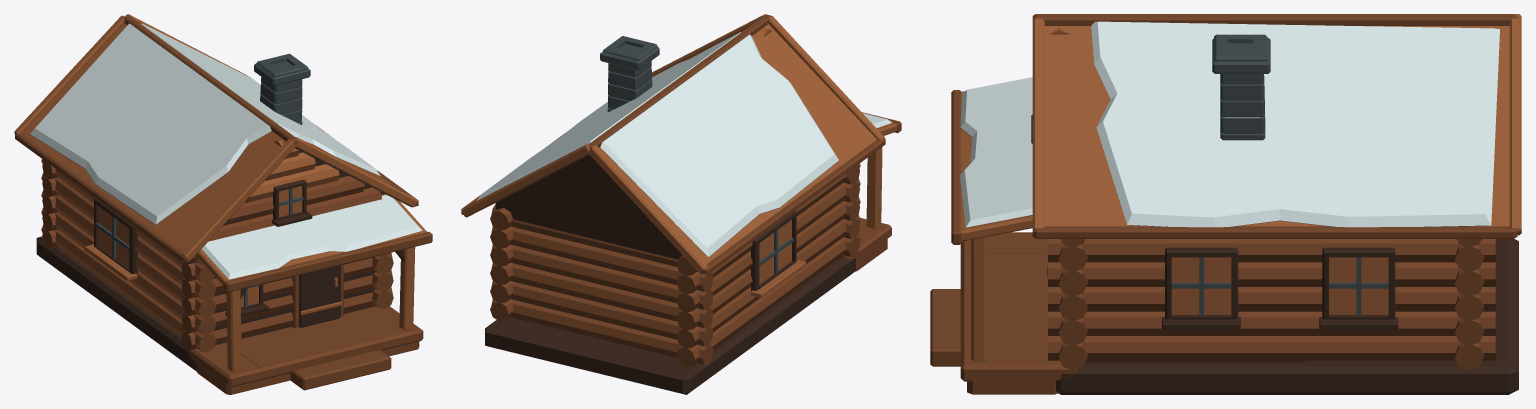
The model's file is Prop_House.fbx.
3 views of the same model, side by side, from view 1: azimuth 30°, elevation 25°; view 2: azimuth 150°, elevation 25°; view 3: azimuth 270°, elevation 25° (orthographic). The views are drawn at different scales.
Visible parts, largest first — view 1: PropHouse_LOD0; view 2: PropHouse_LOD0; view 3: PropHouse_LOD0.
Boxes of the visible parts, <box> form: PropHouse_LOD0: <box>14,14,432,394</box>; PropHouse_LOD0: <box>461,14,901,394</box>; PropHouse_LOD0: <box>930,14,1521,394</box>.
Bounding box in the file's own units: 5.85 × 5.37 × 8.95.
